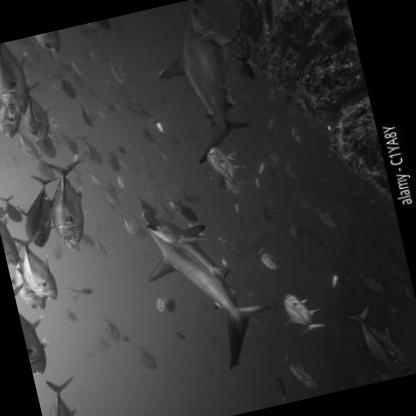hammerhead_Shark: (118, 190, 270, 391)
